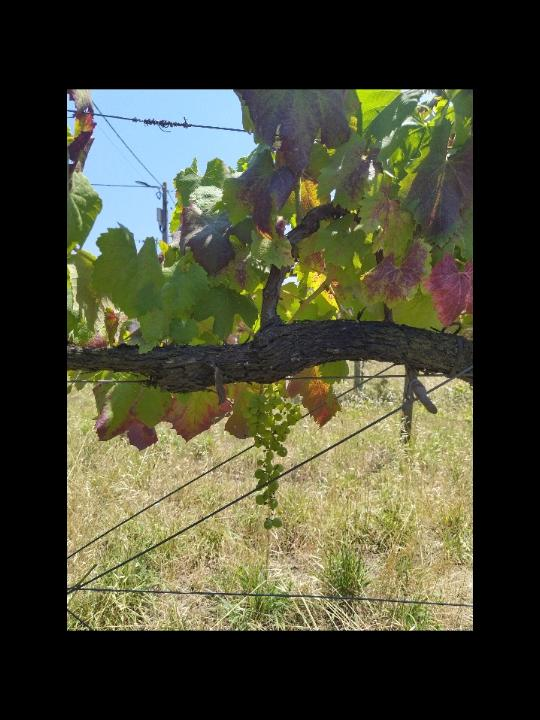grape: (241, 382, 305, 534)
